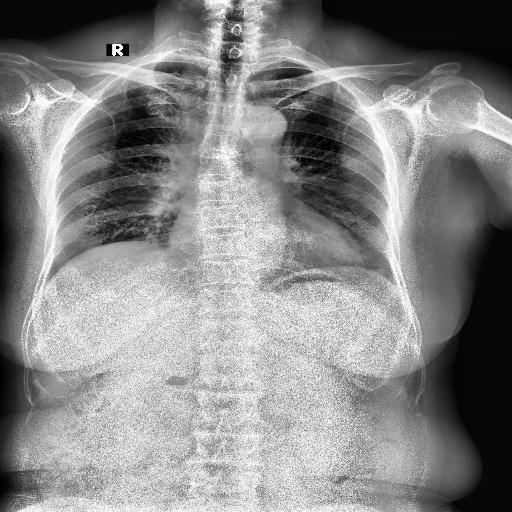0- Aortic enlargement: (168, 202, 365, 270), (234, 104, 288, 144), (244, 106, 287, 154), (234, 104, 287, 141)
3- Cardiomegaly: (162, 226, 362, 278), (168, 220, 365, 262)
